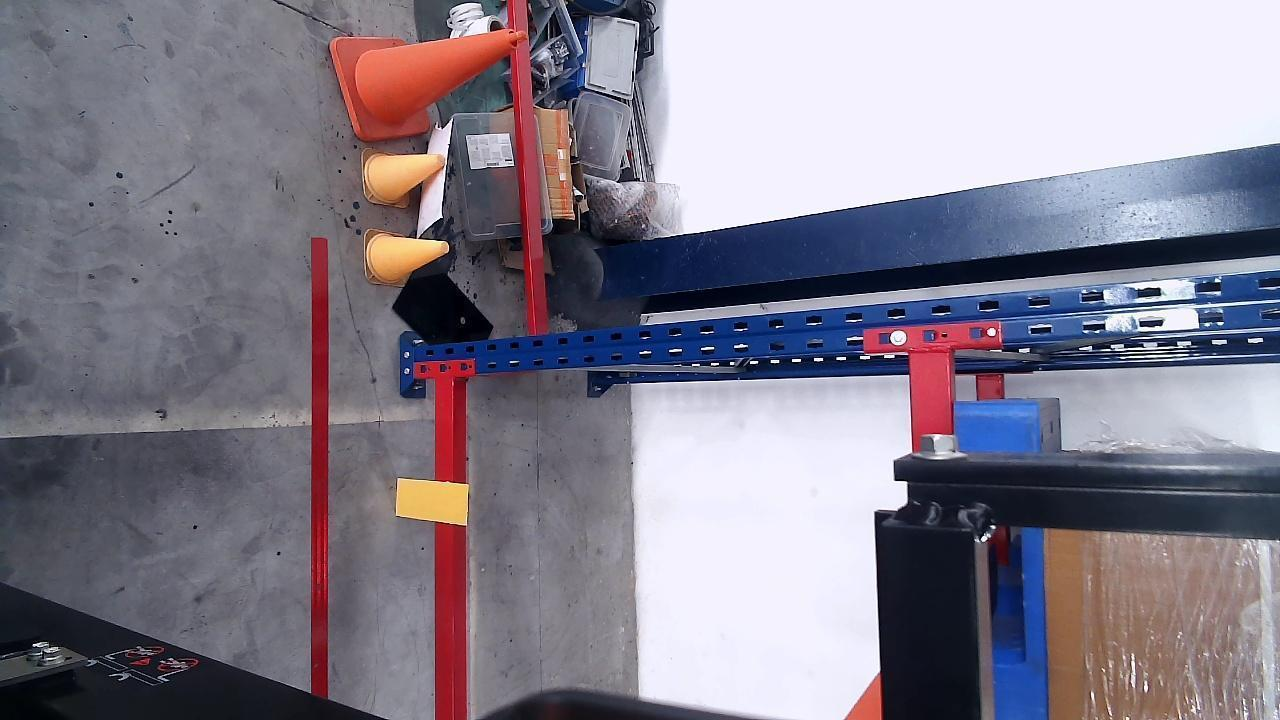red_line: (310, 237, 330, 698)
